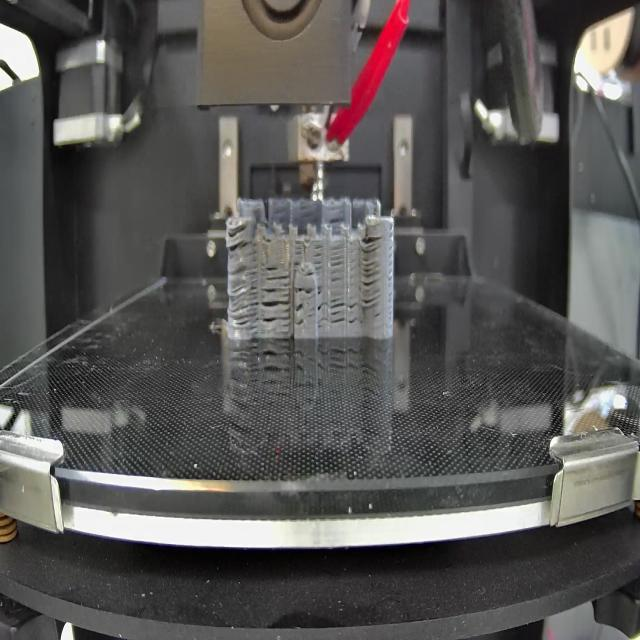cracks: (259, 264, 290, 336), (360, 236, 385, 320), (227, 264, 258, 327), (294, 283, 326, 329), (225, 226, 256, 256), (348, 294, 362, 330), (332, 246, 344, 284), (330, 298, 346, 325), (313, 246, 328, 273), (291, 242, 306, 266), (327, 214, 348, 227), (262, 235, 276, 244)
